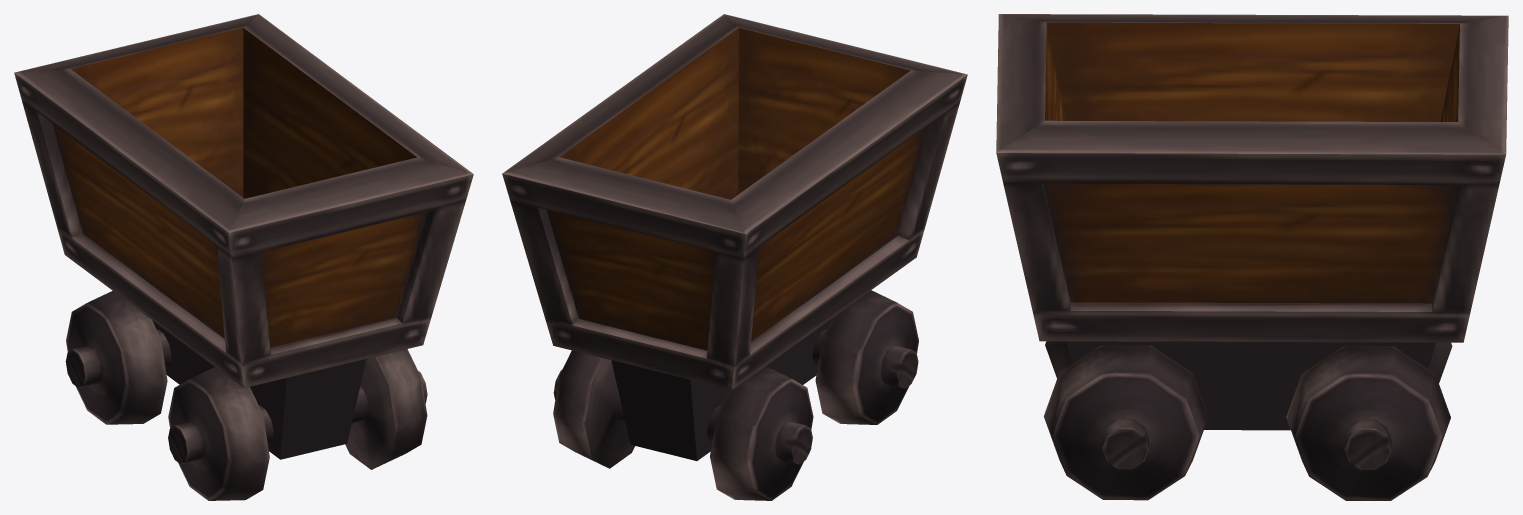
File: rock_20.fbx
3 views of the same model, side by side, from view 1: azimuth 30°, elevation 25°; view 2: azimuth 150°, elevation 25°; view 3: azimuth 270°, elevation 25° (orthographic). The views are drawn at different scales.
Parts seen in each view (by area): view 1: rock_20; view 2: rock_20; view 3: rock_20.
Boxes of the visible parts, x1,y1,x2,y2 form: rock_20: (14,14,473,500); rock_20: (502,14,967,500); rock_20: (996,14,1508,500).
Bounding box in the file's own units: 1.04 × 1.31 × 1.6.
